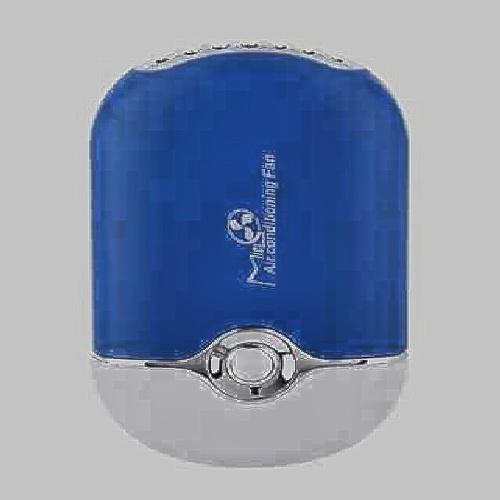fan: (77, 47, 422, 459)
